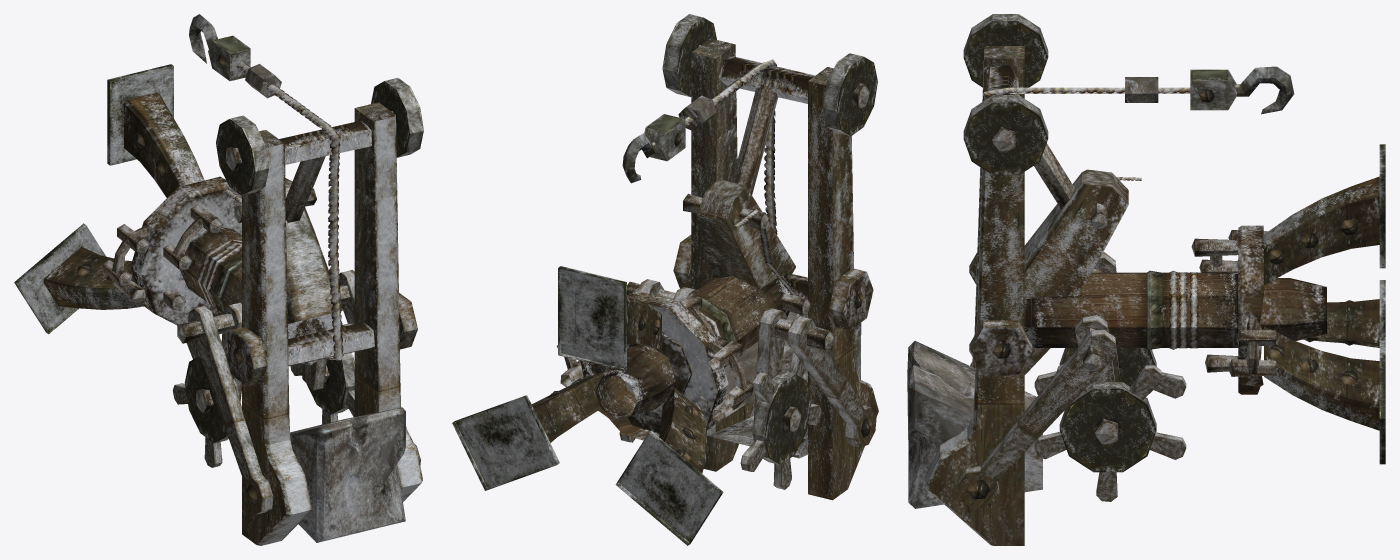
Rendered from zhanchang_fuben_194_diaoche_01a.obj.
3 renders of one model, left to right at view 1: azimuth 30°, elevation 25°; view 2: azimuth 150°, elevation 25°; view 3: azimuth 270°, elevation 25°, orthographic. The views are drawn at different scales.
Visible parts, largest first — view 1: zhanchang_fuben_194_diaoche_01a; view 2: zhanchang_fuben_194_diaoche_01a; view 3: zhanchang_fuben_194_diaoche_01a.
Part boxes in pixels (left/top/right/bottom): zhanchang_fuben_194_diaoche_01a: left=14, top=14, right=423, bottom=545; zhanchang_fuben_194_diaoche_01a: left=452, top=14, right=878, bottom=545; zhanchang_fuben_194_diaoche_01a: left=907, top=14, right=1385, bottom=545.
Size of the model in its own units: 168 by 262 by 250.
2 materials, 2 textured.
